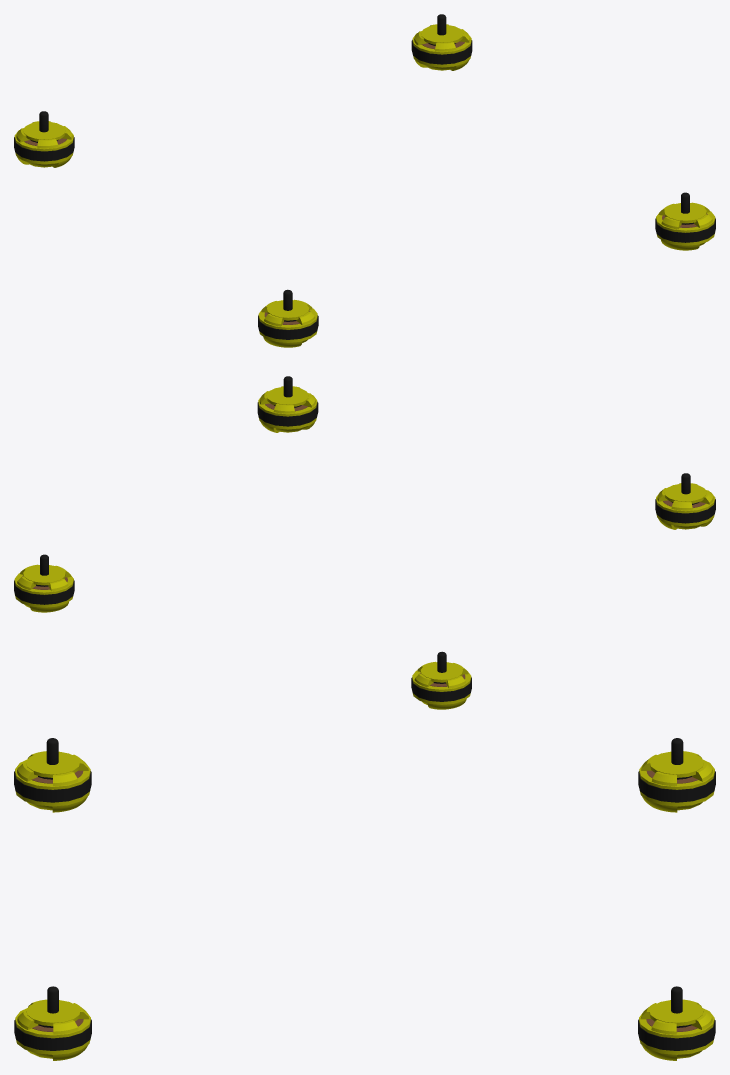
Rendered from motor2.dae.
3 views of the same model, one above another, from view 1: azimuth 30°, elevation 25°; view 2: azimuth 150°, elevation 25°; view 3: azimuth 270°, elevation 25° (orthographic). The views are drawn at different scales.
Parts seen in each view (by area): view 1: Body_Beschriftung (×2), Ganz_oben (×2), Zylinder.3 (×2); view 2: Body_Beschriftung (×2), Ganz_oben (×2), Zylinder.3 (×2); view 3: Body_Beschriftung (×2), Ganz_oben (×2), Zylinder.3 (×2), Prop-Schraube (×2), Teil (×2).
Boxes of the visible parts, x1,y1,x2,y2 form: Body_Beschriftung (×2): [14, 40, 715, 339]; Ganz_oben (×2): [23, 24, 706, 320]; Zylinder.3 (×2): [14, 31, 715, 342]; Body_Beschriftung (×2): [14, 402, 715, 701]; Ganz_oben (×2): [23, 386, 706, 682]; Zylinder.3 (×2): [14, 393, 715, 704]; Body_Beschriftung (×2): [14, 771, 715, 1050]; Ganz_oben (×2): [26, 751, 703, 1026]; Zylinder.3 (×2): [15, 759, 714, 1054]; Prop-Schraube (×2): [46, 738, 683, 1013]; Teil (×2): [53, 771, 676, 1034].
Bounding box in the file's own units: 681 × 70.17 × 719.
